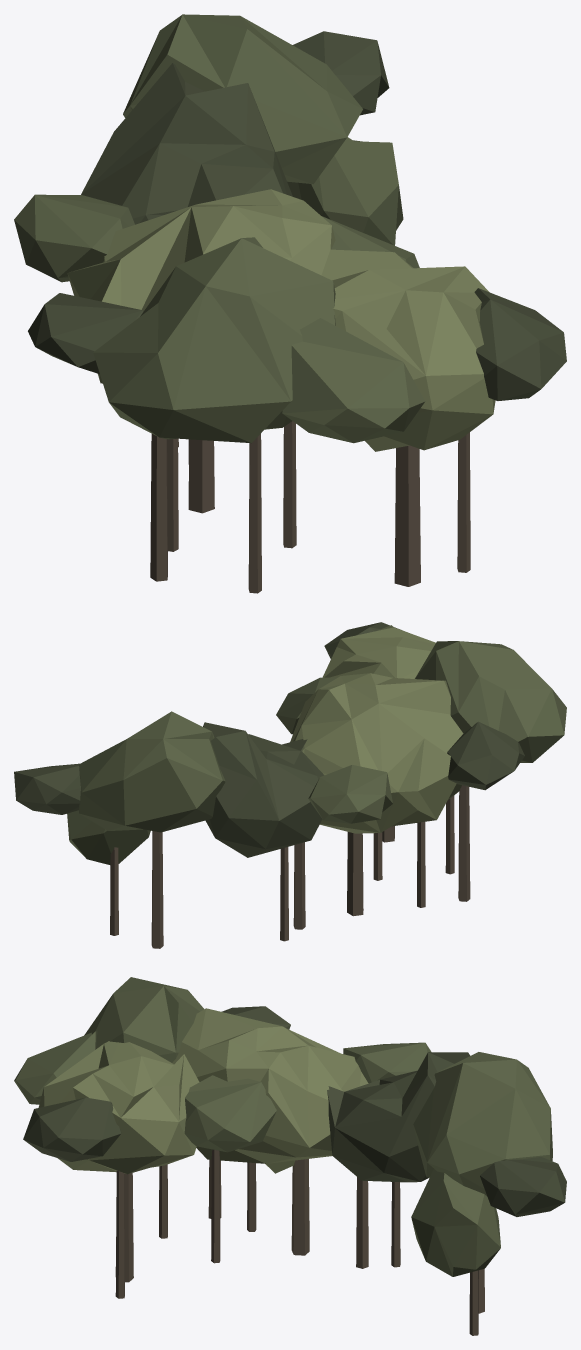
Rendered from Tree_32.gltf.
3 renders of one model, top to bottom at view 1: azimuth 30°, elevation 25°; view 2: azimuth 150°, elevation 25°; view 3: azimuth 270°, elevation 25°, orthographic. The views are drawn at different scales.
Parts seen in each view (by area): view 1: Tree_32; view 2: Tree_32; view 3: Tree_32.
Boxes of the visible parts, bbox=[...] form: Tree_32: bbox=[14, 14, 566, 593]; Tree_32: bbox=[14, 622, 566, 948]; Tree_32: bbox=[14, 977, 566, 1335].
Size of the model in its own units: 0.6035 by 0.3706 by 0.7536.
1 material, 1 textured.
